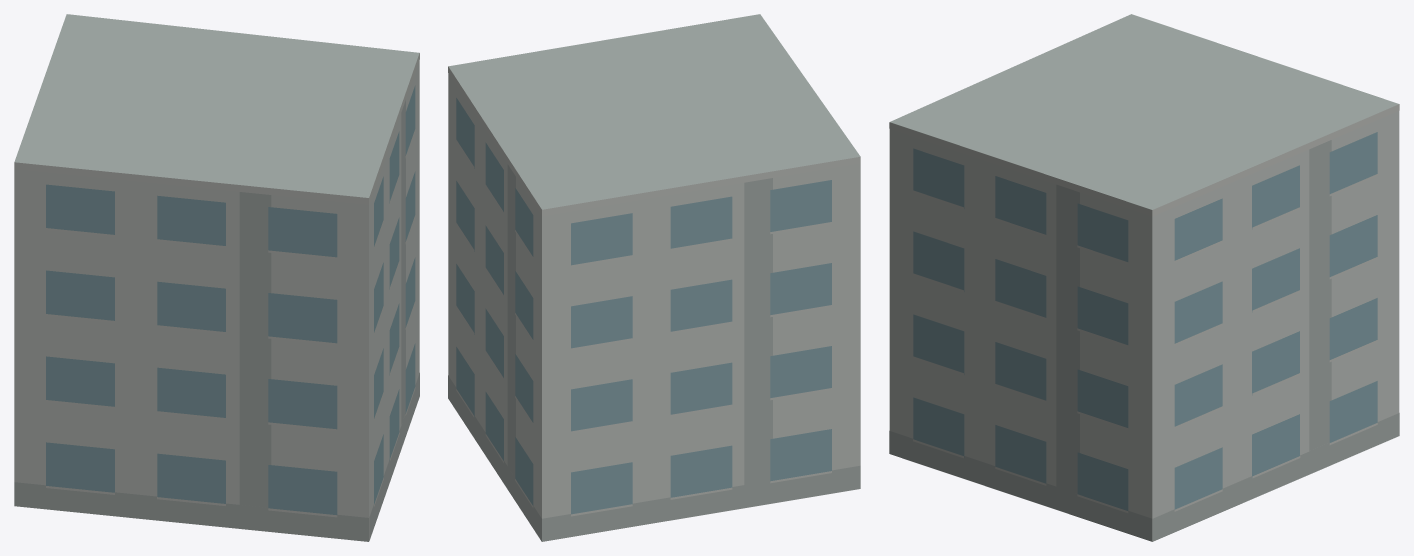
File: survey-upis-32744379.glb
The picture shows the model from 3 angles, left to right: view 1: azimuth 30°, elevation 25°; view 2: azimuth 150°, elevation 25°; view 3: azimuth 270°, elevation 25°; orthographic projection. The views are drawn at different scales.
Parts seen in each view (by area): view 1: survey-upis-32744379.tmp; view 2: survey-upis-32744379.tmp; view 3: survey-upis-32744379.tmp.
Part boxes in pixels (x1,y1,x2,y2): survey-upis-32744379.tmp: (14,14,419,541); survey-upis-32744379.tmp: (448,14,860,541); survey-upis-32744379.tmp: (889,14,1399,541).
Size of the model in its own units: 15.46 by 12.2 by 17.
